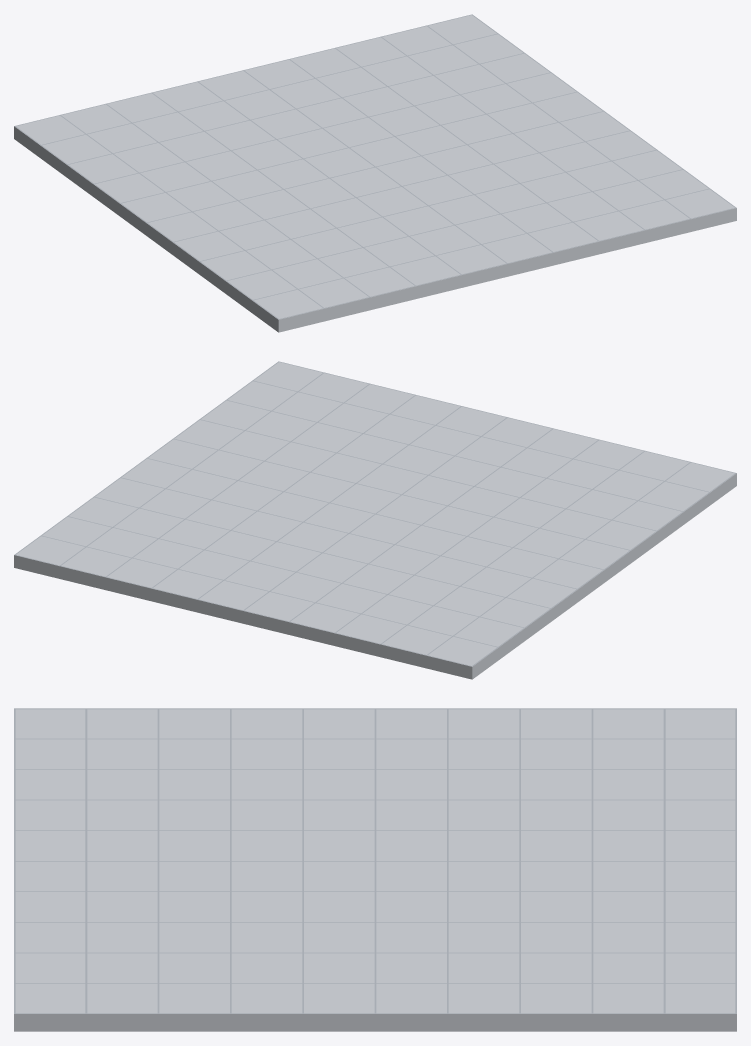
File: piso_calcada_lisa.glb
3 renders of one model, top to bottom at view 1: azimuth 30°, elevation 25°; view 2: azimuth 150°, elevation 25°; view 3: azimuth 270°, elevation 25°, orthographic. The views are drawn at different scales.
Visible parts, largest first — view 1: piso_calcada_lisa; view 2: piso_calcada_lisa; view 3: piso_calcada_lisa.
Part boxes in pixels (<box>): piso_calcada_lisa: <box>14,14,736,332</box>; piso_calcada_lisa: <box>14,361,736,679</box>; piso_calcada_lisa: <box>14,708,736,1031</box>.
Bounding box in the file's own units: 15 × 0.4025 × 15.
1 material, 1 textured.
